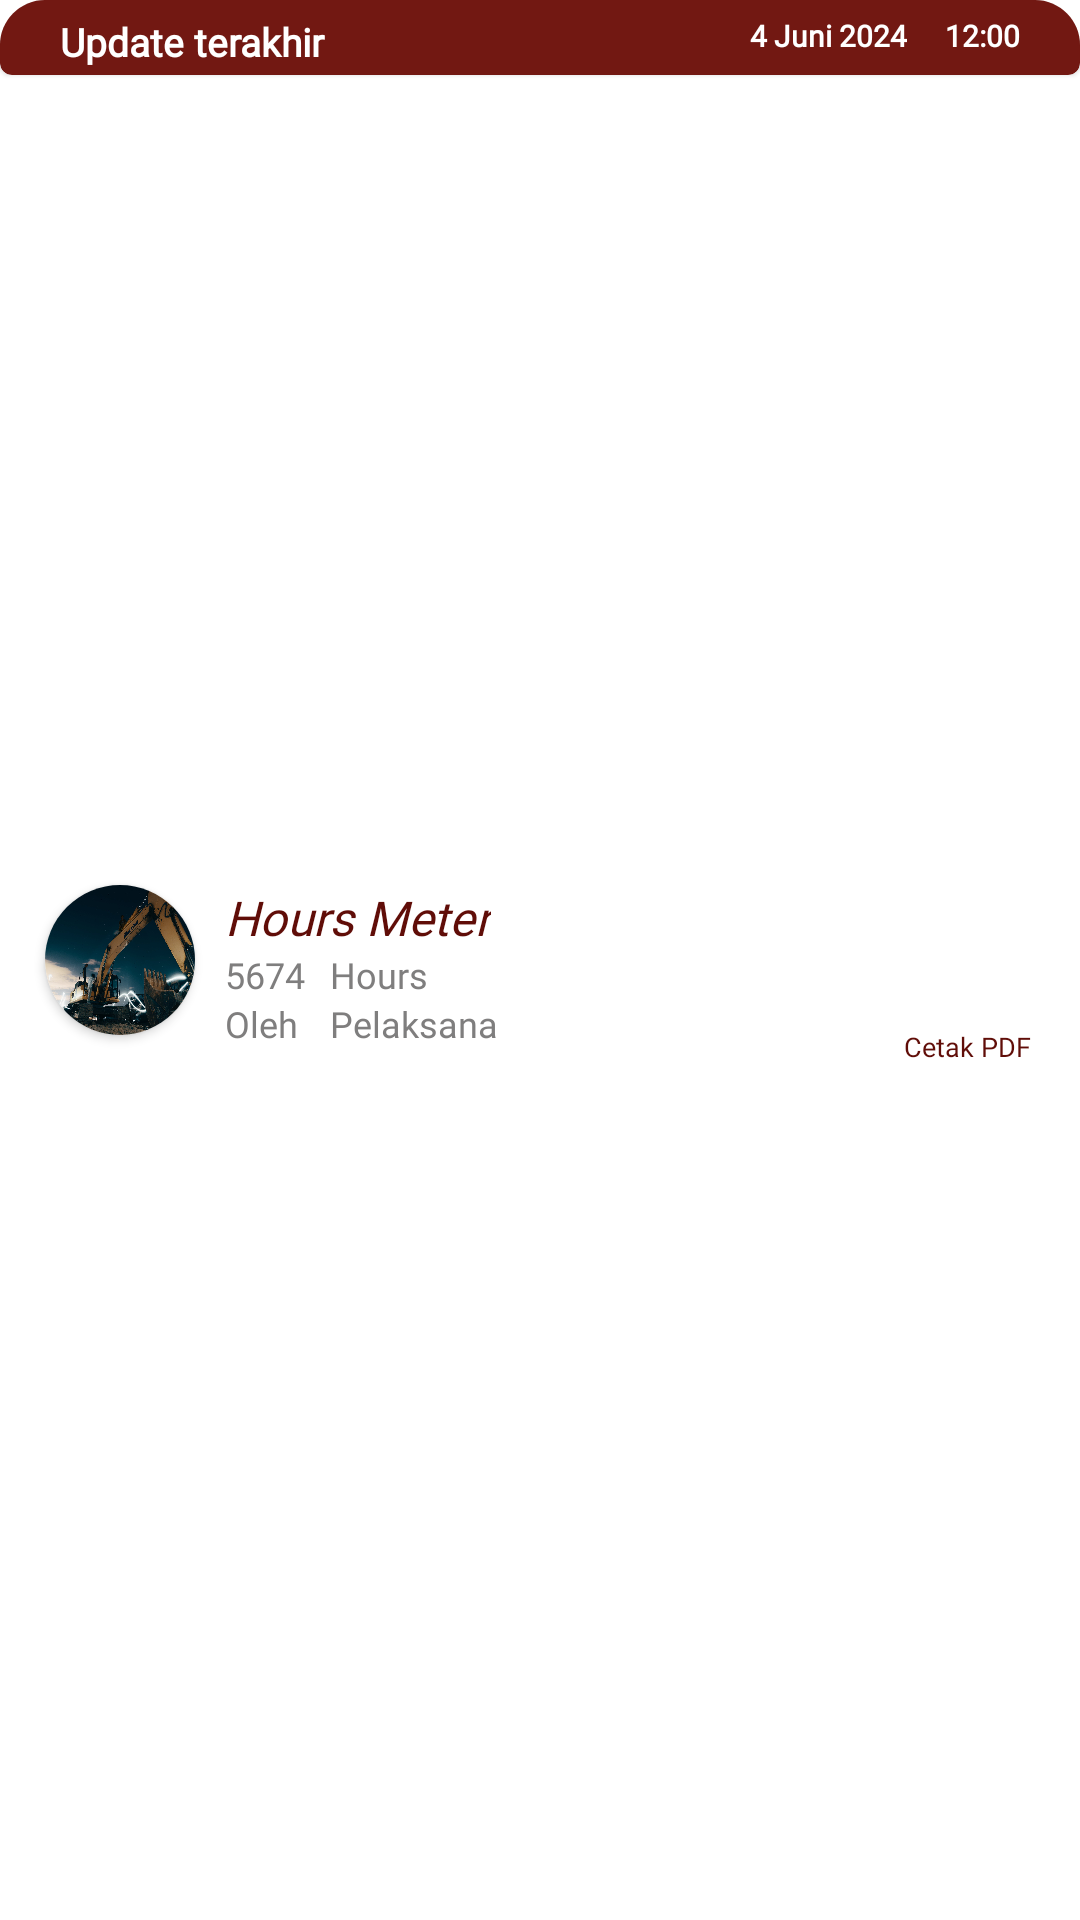

Point at icon controls on the screen. Image size 1080x1920, points as (x=x, y=y).
beko: (x=120, y=960)
